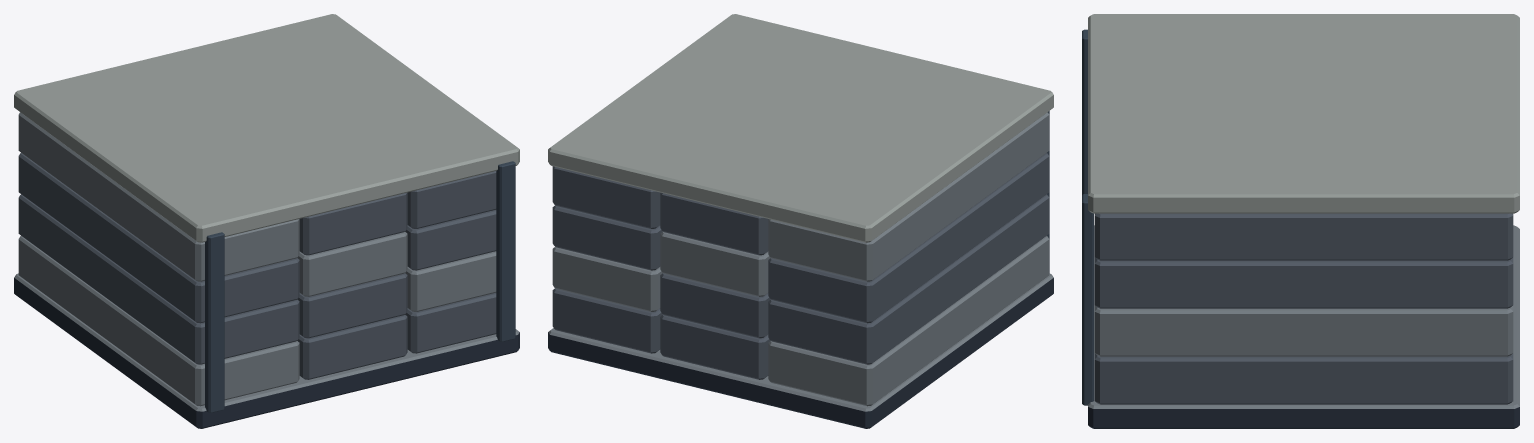
Rendered from platform.glb.
3 renders of one model, left to right at view 1: azimuth 30°, elevation 25°; view 2: azimuth 150°, elevation 25°; view 3: azimuth 270°, elevation 25°, orthographic. The views are drawn at different scales.
Parts seen in each view (by area): view 1: platform__body; view 2: platform__body; view 3: platform__body.
Boxes of the visible parts, x1,y1,x2,y2 form: platform__body: (14, 14, 519, 428); platform__body: (548, 14, 1053, 428); platform__body: (1082, 14, 1519, 428).
Bounding box in the file's own units: 2 × 1.2 × 2.03.
